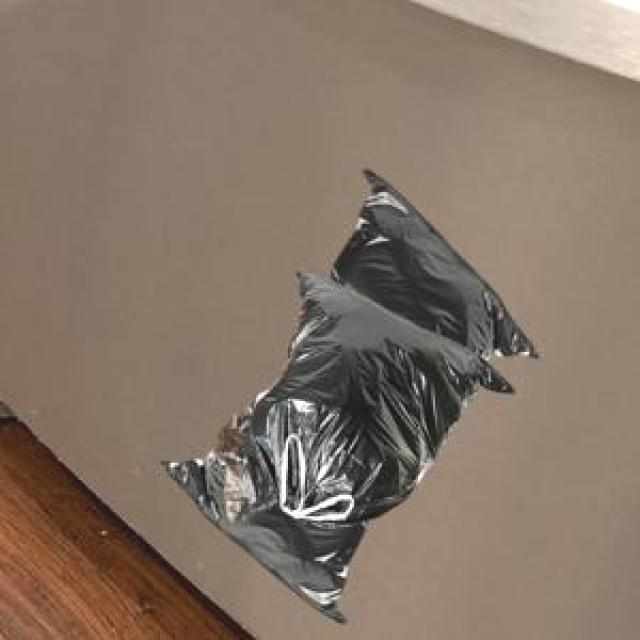Trashbag: (226, 264, 515, 526)
